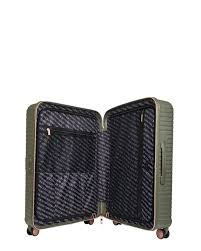suitcase: (22, 98, 175, 239)
